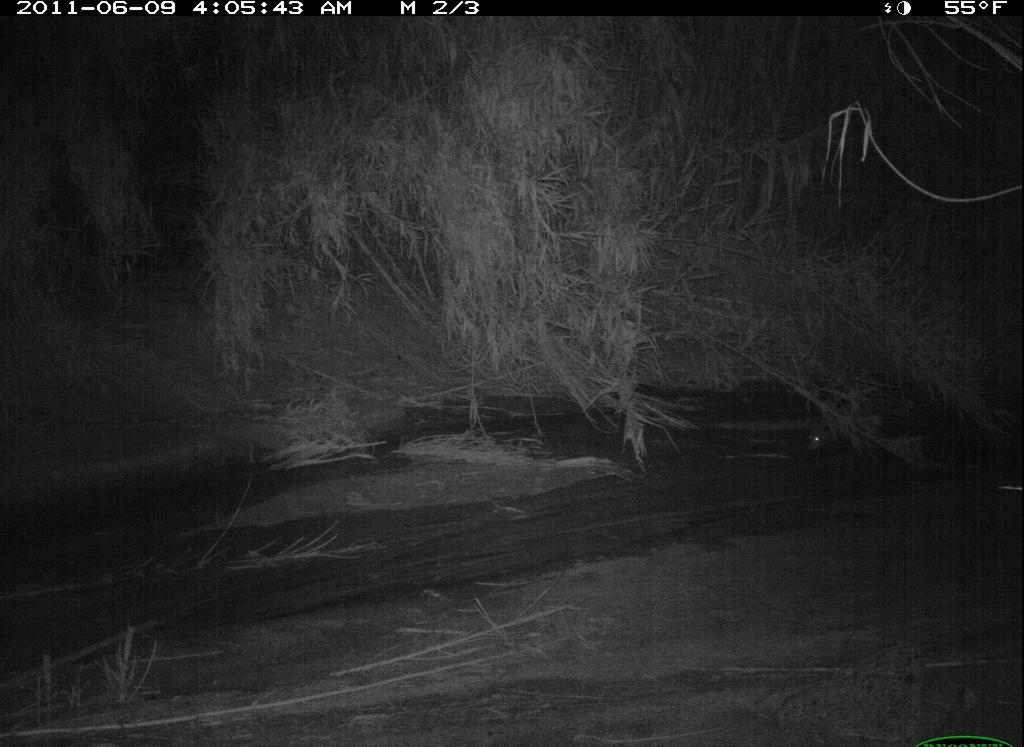opossum: (800, 405, 891, 457)
